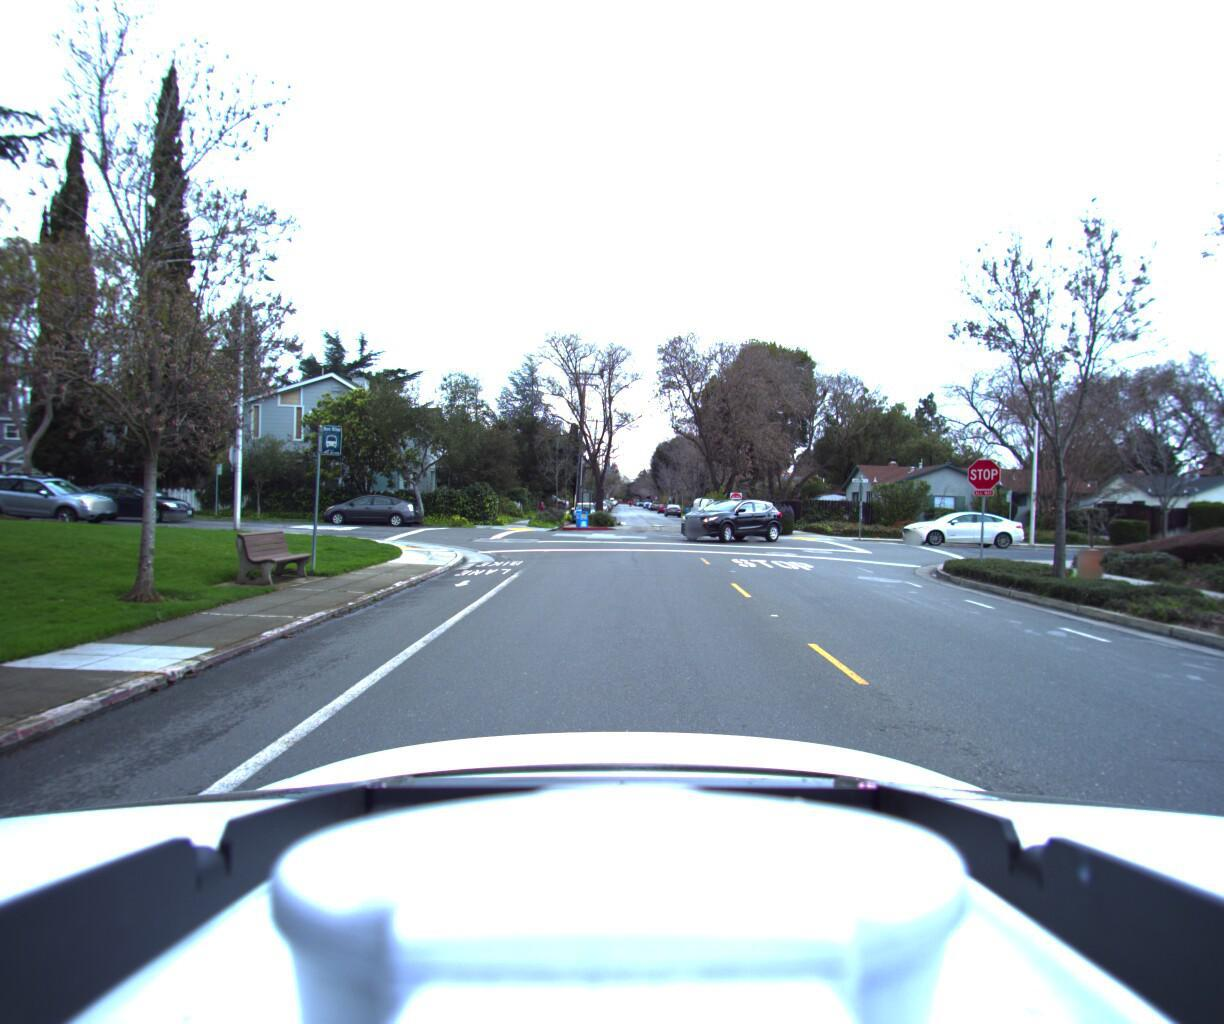car: (0, 471, 123, 529), (61, 482, 212, 528), (666, 500, 782, 548), (896, 513, 1029, 553), (319, 493, 423, 530), (686, 497, 724, 528)
